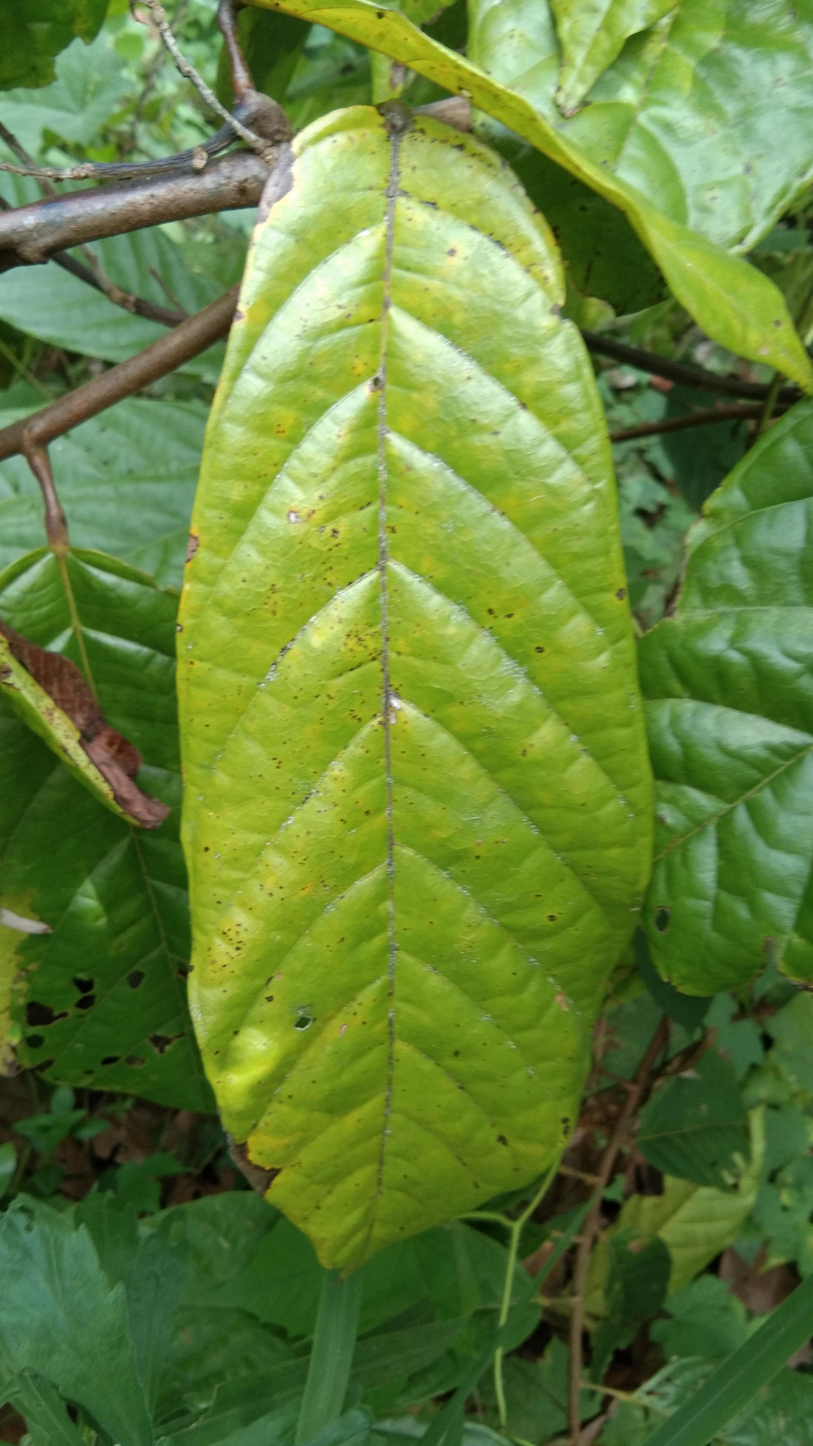deficiencia_potasio: (174, 101, 660, 1297)
